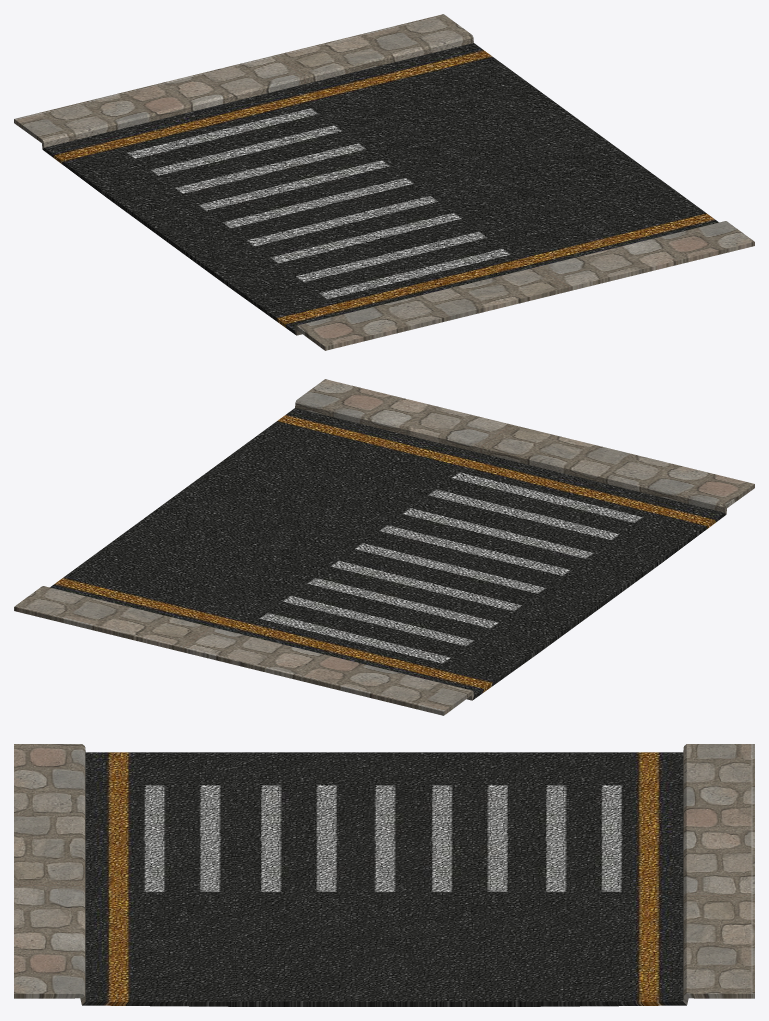
File: modular-city-road-pack-game-ready-4in-2-005-4.glb
3 views of the same model, one above another, from view 1: azimuth 30°, elevation 25°; view 2: azimuth 150°, elevation 25°; view 3: azimuth 270°, elevation 25° (orthographic). The views are drawn at different scales.
Visible parts, largest first — view 1: 4in 2.005_4; view 2: 4in 2.005_4; view 3: 4in 2.005_4.
Boxes of the visible parts, x1,y1,x2,y2 form: 4in 2.005_4: [14, 14, 754, 350]; 4in 2.005_4: [14, 379, 754, 715]; 4in 2.005_4: [14, 744, 754, 1006].
Bounding box in the file's own units: 2.16 × 0.0526 × 2.71.
2 materials, 2 textured.
